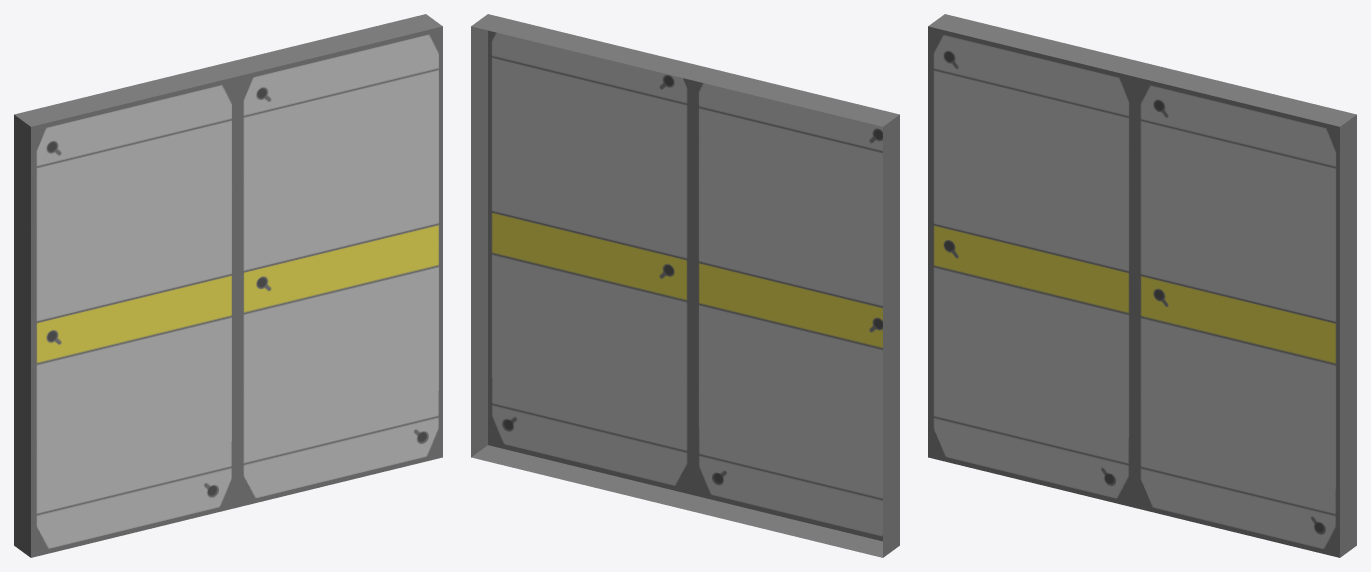
The model's file is Wall_back.fbx.
3 views of the same model, side by side, from view 1: azimuth 30°, elevation 25°; view 2: azimuth 150°, elevation 25°; view 3: azimuth 330°, elevation 25° (orthographic).
Parts seen in each view (by area): view 1: pCube15; view 2: pCube15; view 3: pCube15.
Part boxes in pixels (left/top/right/bottom): pCube15: left=14, top=14, right=442, bottom=557; pCube15: left=471, top=14, right=899, bottom=557; pCube15: left=928, top=14, right=1356, bottom=557.
Size of the model in its own units: 15.98 by 15.98 by 1.14.
